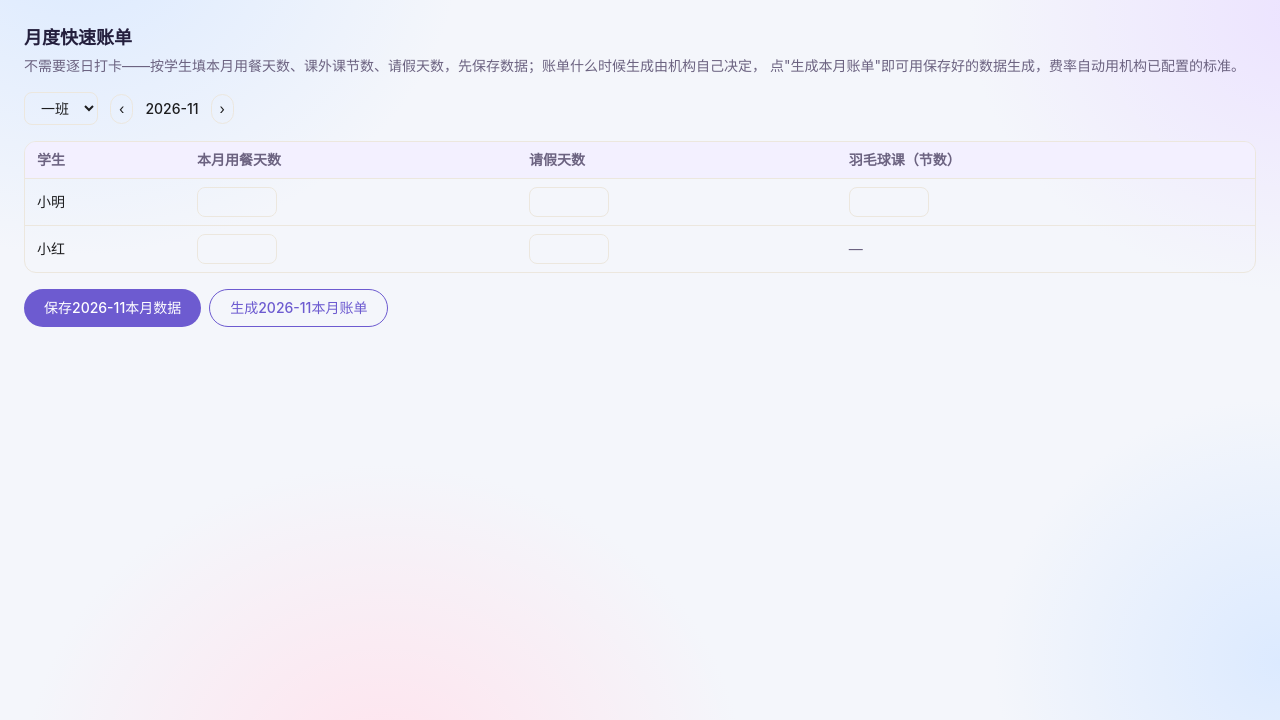
Scenario: AdminMonthlyQuickBillModule › generates the bill independently of saving data, using whatever data already exists
Expected: the text "小明" is shown, [25, 178, 185, 226]
Click the button "生成2026-11本月账单".
click(299, 308)  # box [209, 289, 388, 327]
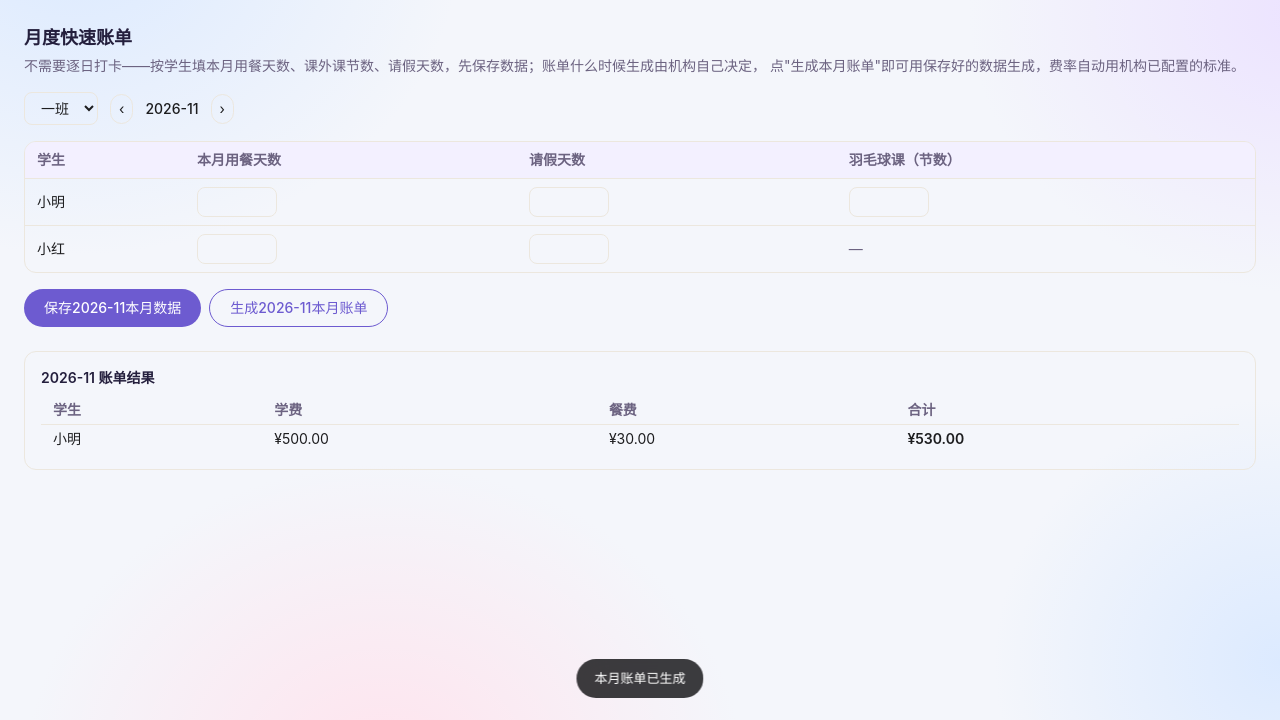
Result: the text "¥530.00" is shown at [895, 424, 1239, 453]
